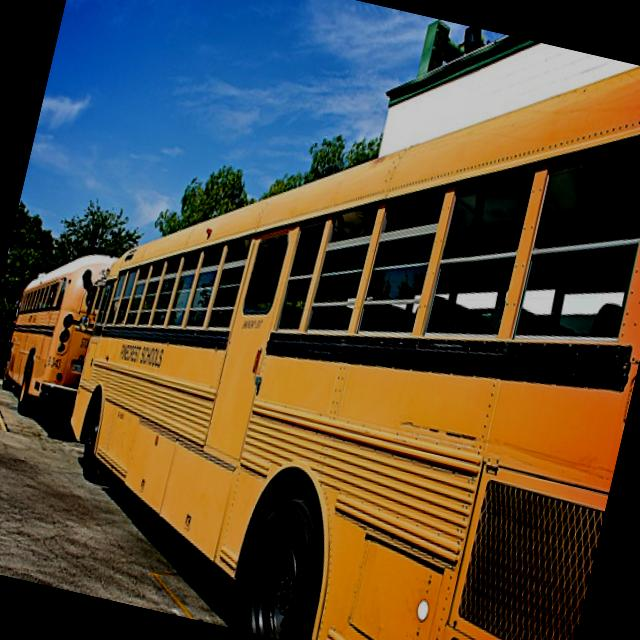Vehicle: (31, 0, 640, 640), (0, 237, 115, 414)
